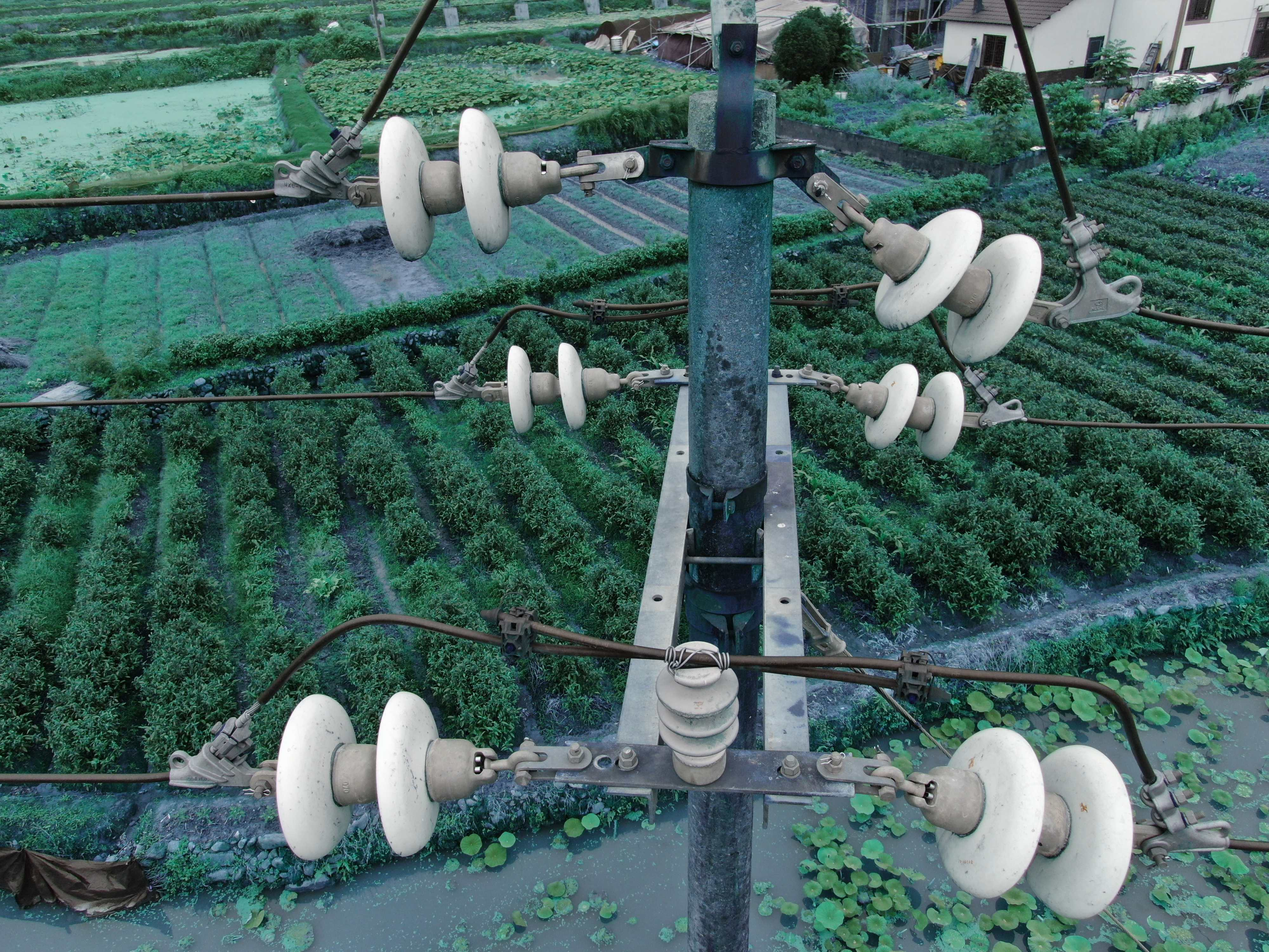severe_soiling_no_discharge_whole: (653, 634, 744, 786)
